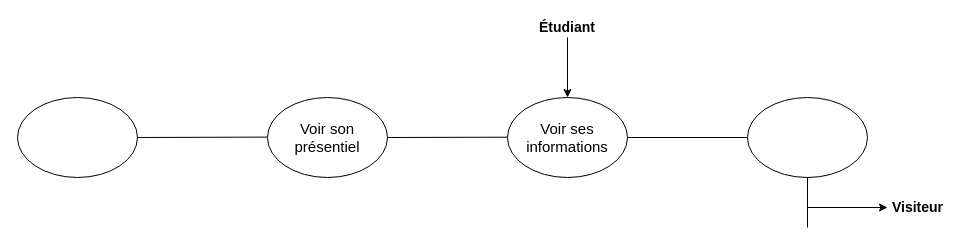
The diagram is 970 pixels wide and 246 high, and some of its shapes have lost their labels. Each missing label, with the centre of its shape:
Se déconnecter: the point at 807,137
Voir ses groupes: the point at 77,137
